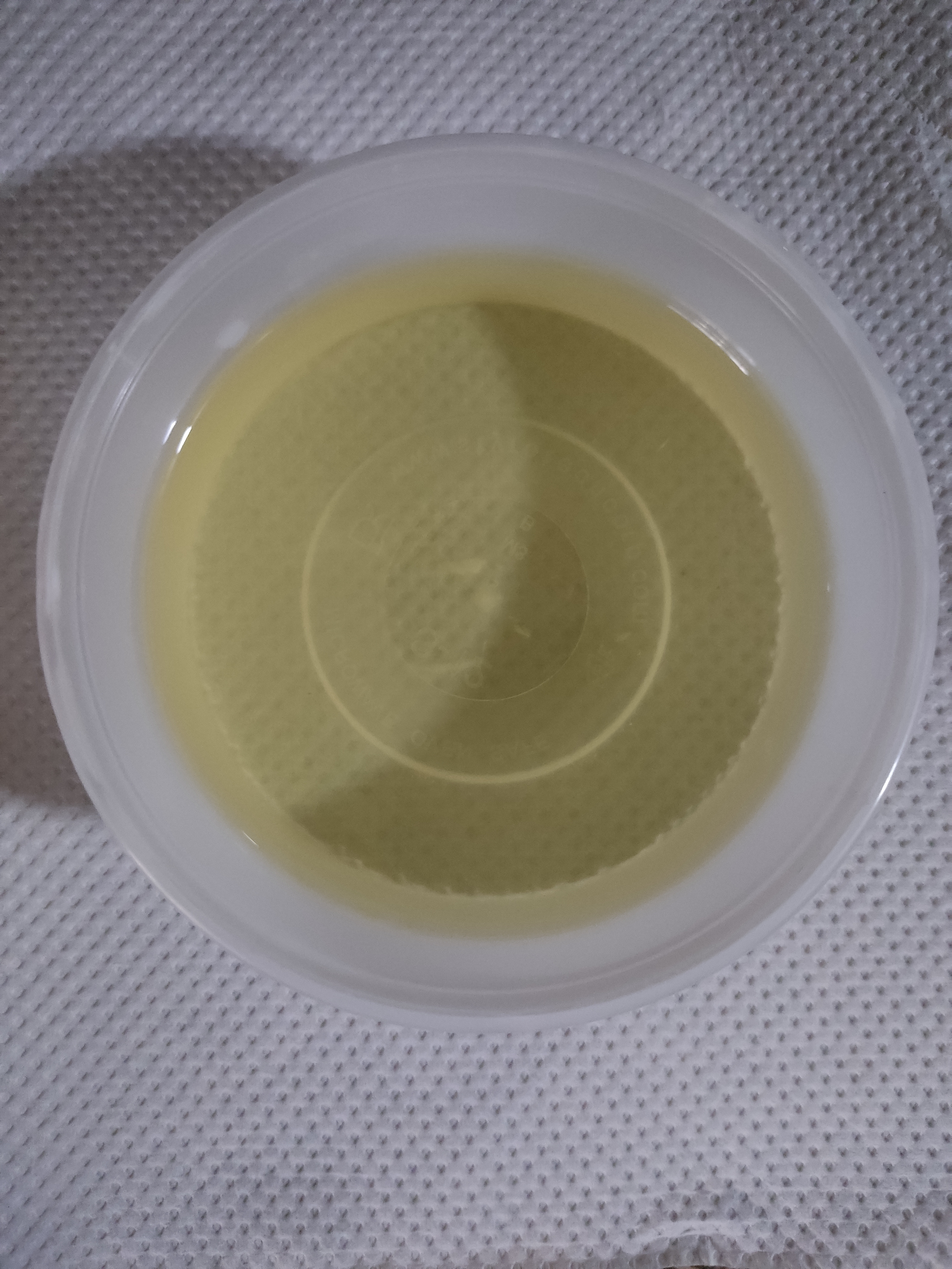reusable: (124, 251, 868, 936)
